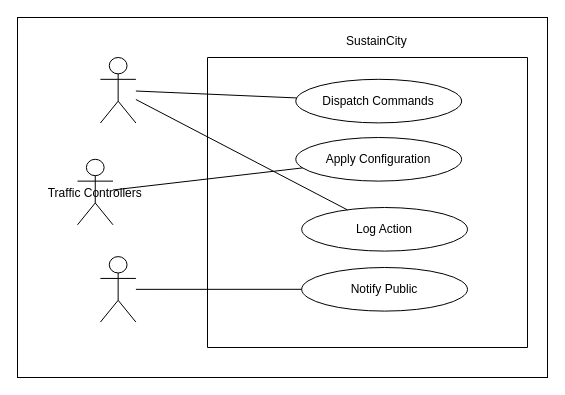
The diagram is 565 pixels wide and 395 high, and some of its shapes have lost their labels. The centre of each missing label's shape, as x and y in pixels:
Notification System: [117,289]
Traffic Management System: [117,89]
